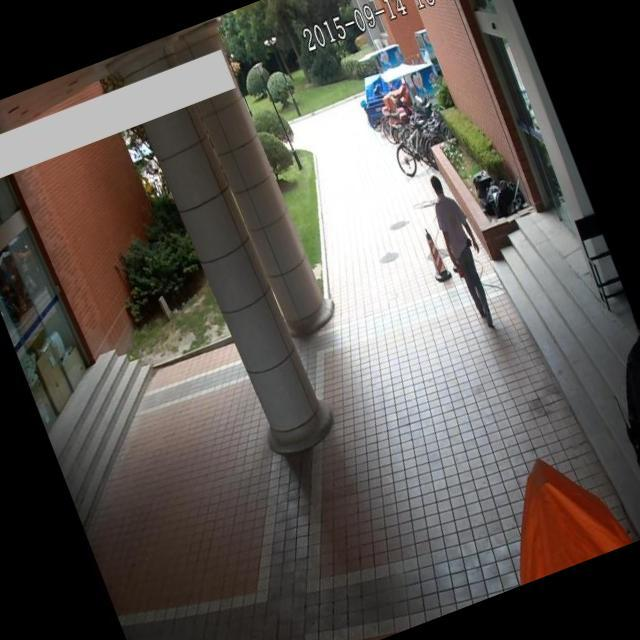person: (418, 164, 514, 343)
